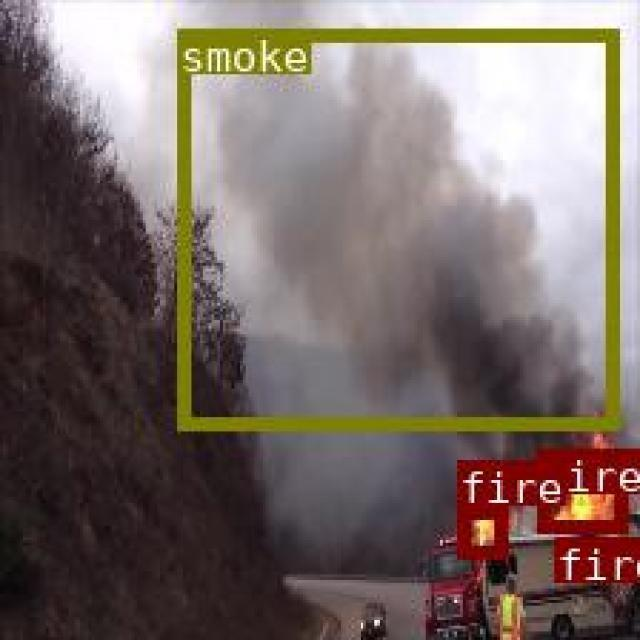fire: (536, 447, 624, 530), (457, 505, 505, 555), (553, 535, 610, 569)
smoke: (175, 28, 616, 429)
